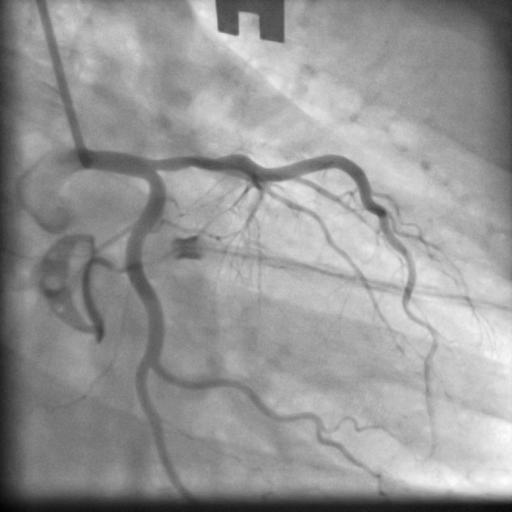Stenosis: (168, 153, 214, 173)
